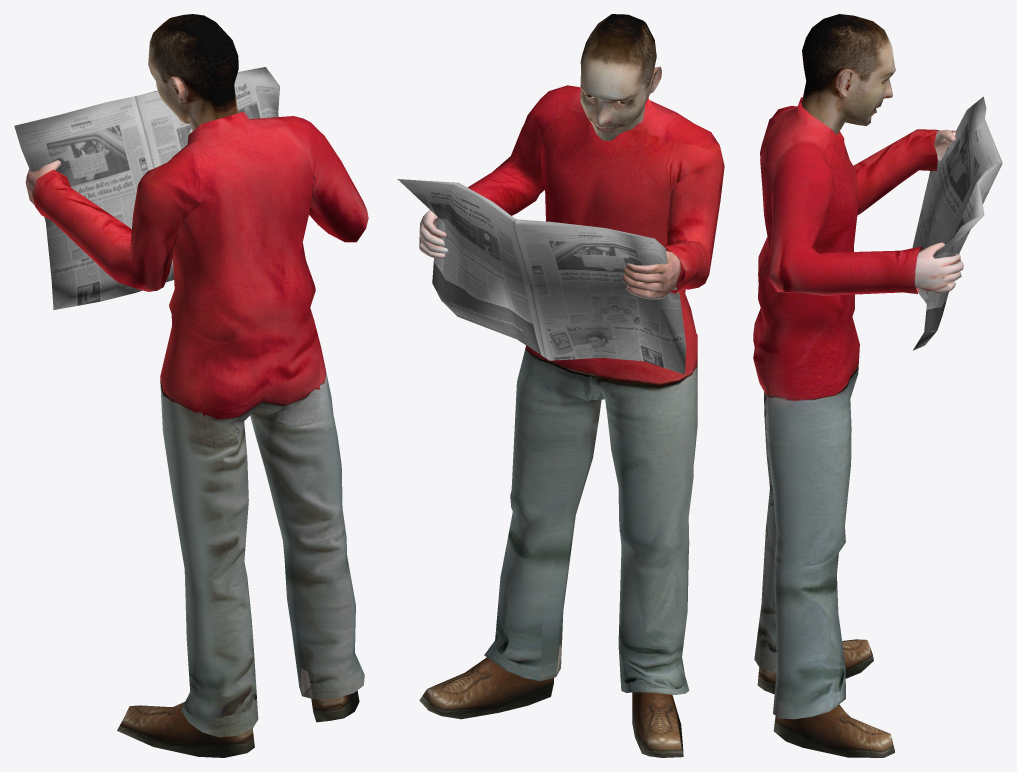
File: man4.FBX
3 renders of one model, left to right at view 1: azimuth 30°, elevation 25°; view 2: azimuth 150°, elevation 25°; view 3: azimuth 270°, elevation 25°, orthographic. The views are drawn at different scales.
Visible parts, largest first — view 1: CMan0003-Re; view 2: CMan0003-Re; view 3: CMan0003-Re.
Part boxes in pixels (x1=…): CMan0003-Re: x1=14, y1=14, x2=368, y2=757; CMan0003-Re: x1=397, y1=14, x2=724, y2=757; CMan0003-Re: x1=753, y1=14, x2=1002, y2=757.
Size of the model in its own units: 0.1905 by 0.4437 by 0.1493.
2 materials, 2 textured.
